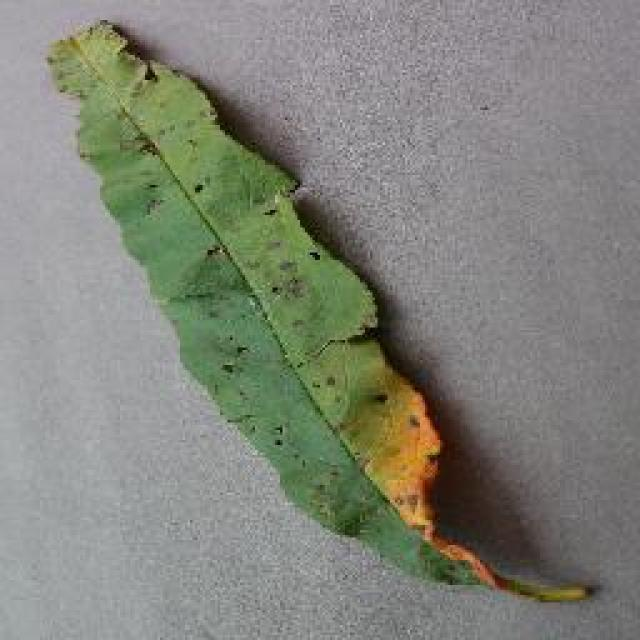Peach_Bacterial_Spot: (91, 77, 426, 520)
